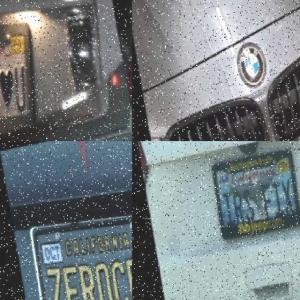Plate: (23, 195, 132, 300), (206, 142, 300, 243), (0, 10, 66, 140)
